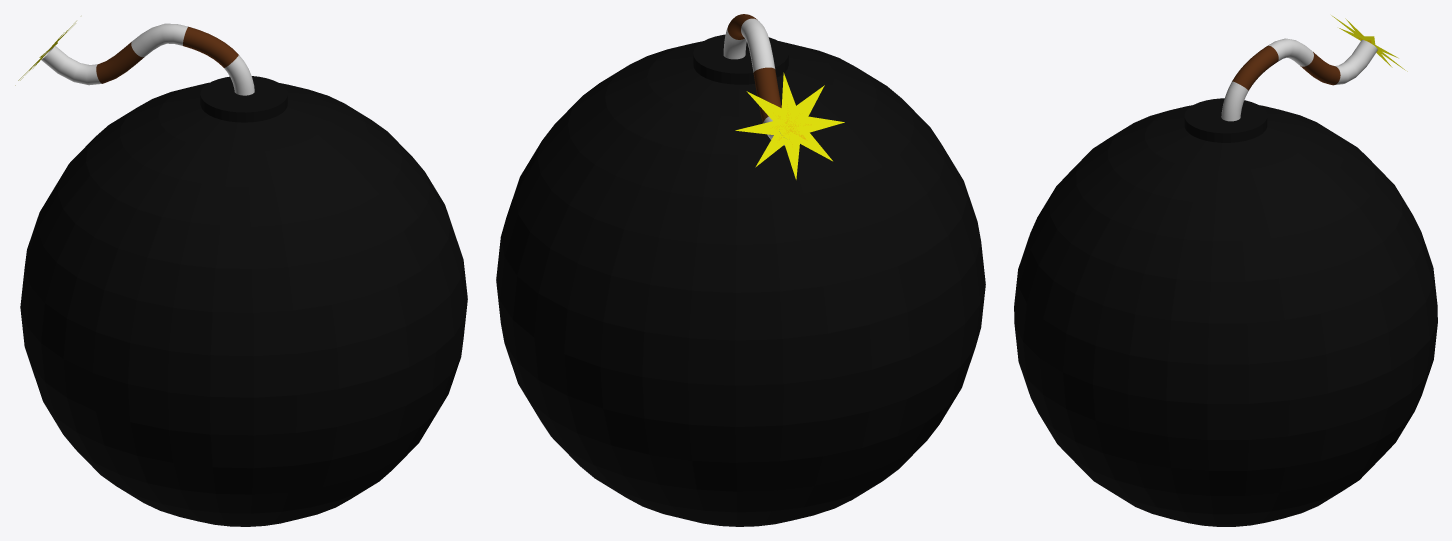
File: bomba2.fbx
The picture shows the model from 3 angles, left to right: view 1: azimuth 30°, elevation 25°; view 2: azimuth 150°, elevation 25°; view 3: azimuth 270°, elevation 25°; orthographic projection. The views are drawn at different scales.
Visible parts, largest first — view 1: Bomba; view 2: Bomba; view 3: Bomba.
Part boxes in pixels (box(x1,y1,x2,y2)): Bomba: box(15, 21, 467, 526); Bomba: box(496, 14, 985, 526); Bomba: box(1014, 15, 1437, 526).
Size of the model in its own units: 115 by 134 by 115.
